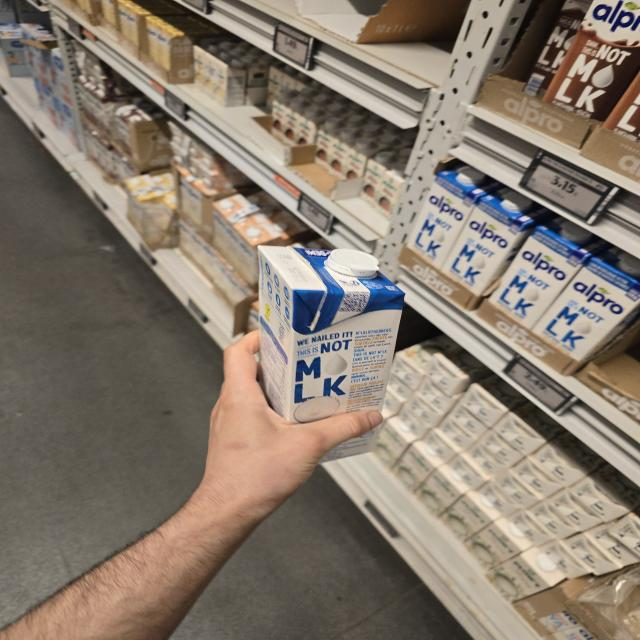Milk: (258, 245, 405, 424), (487, 217, 612, 330), (442, 186, 558, 294), (532, 246, 640, 359), (405, 164, 504, 269)
